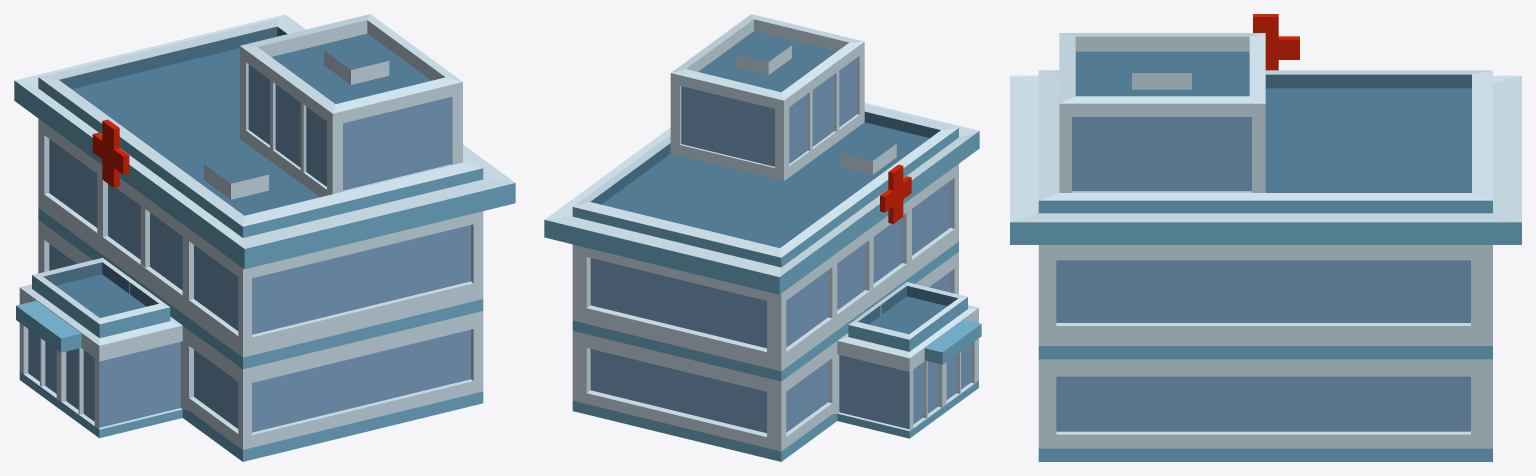
Rendered from hospital.glb.
3 views of the same model, side by side, from view 1: azimuth 30°, elevation 25°; view 2: azimuth 150°, elevation 25°; view 3: azimuth 270°, elevation 25° (orthographic). The views are drawn at different scales.
Visible parts, largest first — view 1: Cube; view 2: Cube; view 3: Cube.
Part boxes in pixels (x1,y1,x2,y2): Cube: [14, 14, 515, 461]; Cube: [544, 14, 981, 461]; Cube: [1010, 14, 1521, 461].
Bounding box in the file's own units: 7.34 × 6.25 × 8.04.
